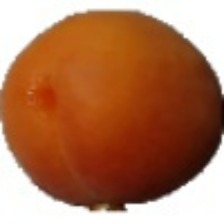apricot: (44, 16, 222, 190)
